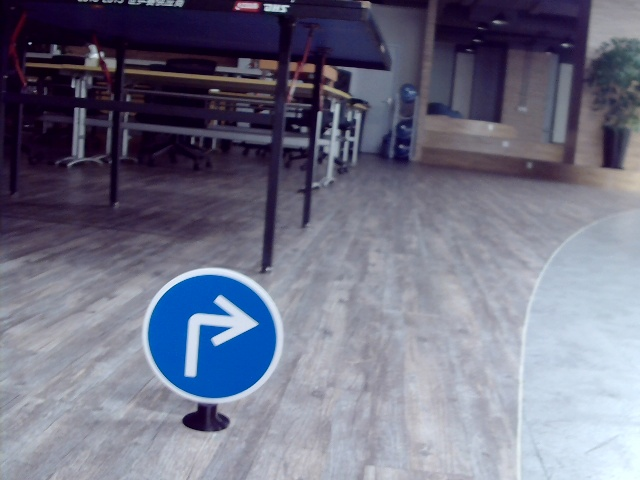turn_right: (179, 293, 257, 384)
